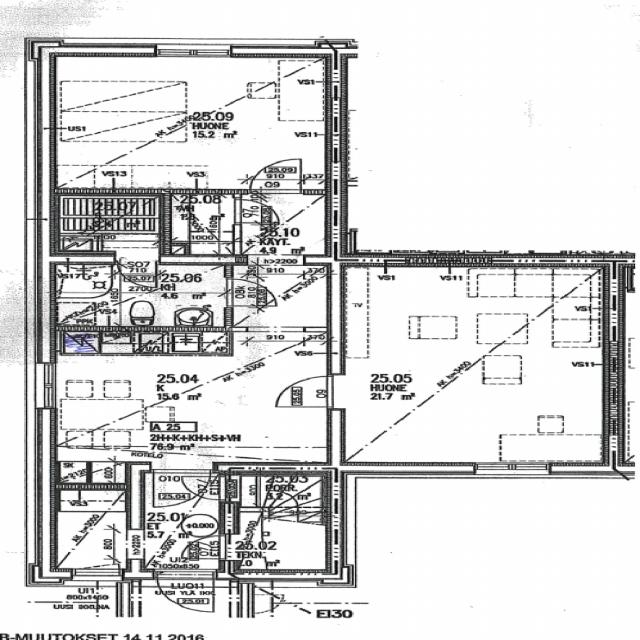door: (156, 569, 214, 622), (154, 462, 210, 506), (275, 376, 346, 407), (251, 158, 301, 194), (118, 251, 157, 288), (224, 279, 277, 306), (182, 477, 240, 500), (182, 536, 240, 558), (232, 200, 278, 222)
